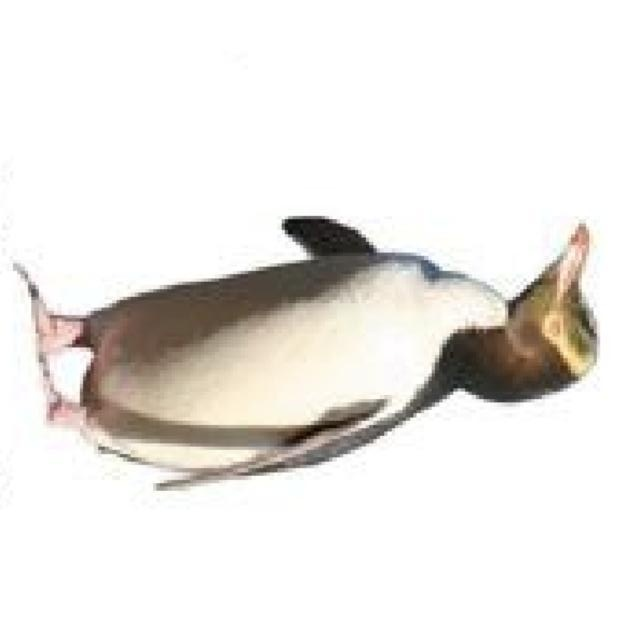penguin: (10, 209, 602, 492)
